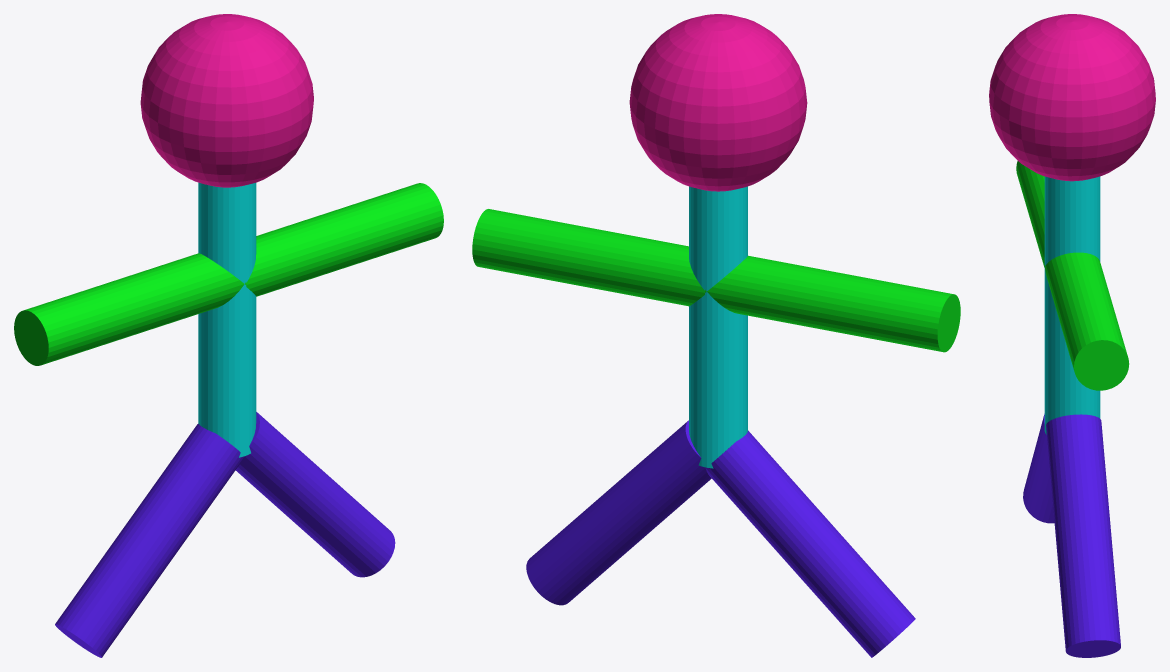
Rendered from man.gltf.
3 views of the same model, side by side, from view 1: azimuth 30°, elevation 25°; view 2: azimuth 150°, elevation 25°; view 3: azimuth 270°, elevation 25° (orthographic). The views are drawn at different scales.
Parts seen in each view (by area): view 1: Cylinder.005; view 2: Cylinder.005; view 3: Cylinder.005.
Part boxes in pixels (x1=…): Cylinder.005: x1=14, y1=14, x2=443, y2=657; Cylinder.005: x1=472, y1=14, x2=960, y2=657; Cylinder.005: x1=989, y1=14, x2=1155, y2=657.
Size of the model in its own units: 5.73 by 7.54 by 1.99.
